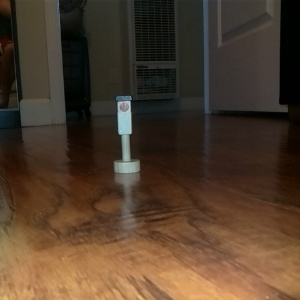traffic light red: (108, 93, 142, 177)
